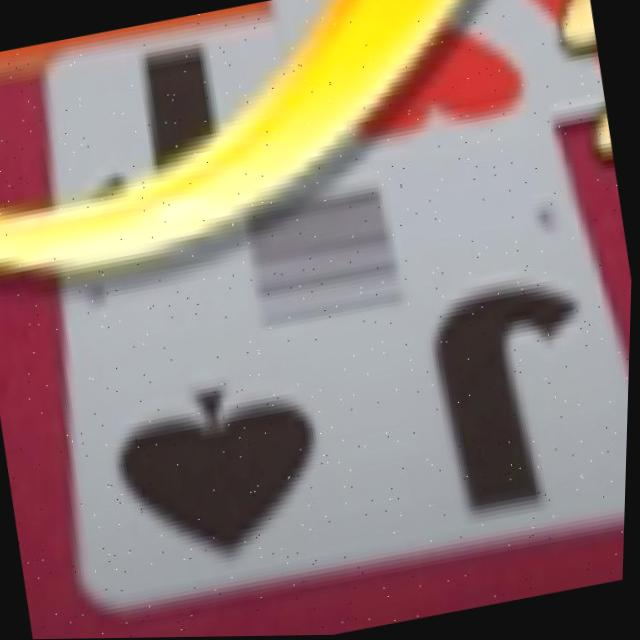Card-J: (45, 20, 631, 612)
